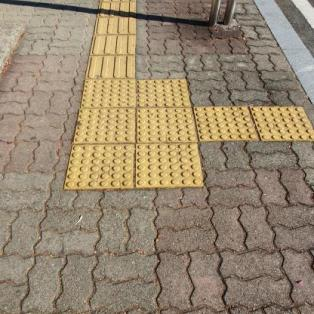Podoctatil: (59, 81, 314, 195), (77, 0, 146, 80)
